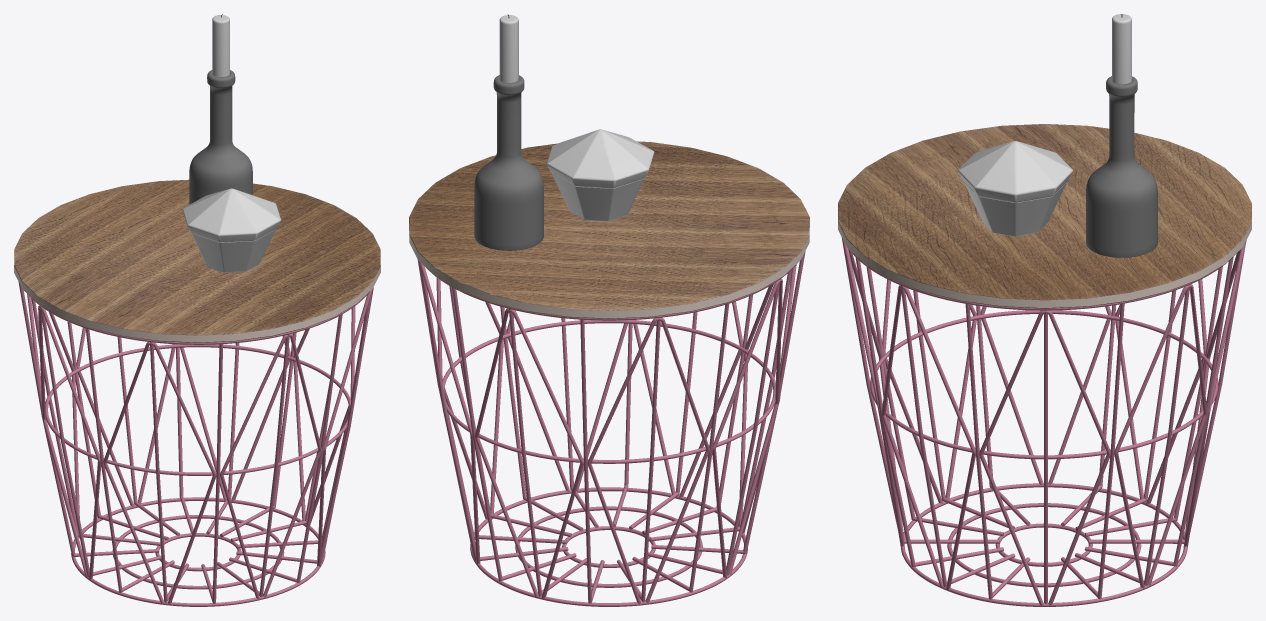
File: table_01.glb
The picture shows the model from 3 angles, left to right: view 1: azimuth 30°, elevation 25°; view 2: azimuth 150°, elevation 25°; view 3: azimuth 270°, elevation 25°; orthographic projection. The views are drawn at different scales.
Visible parts, largest first — view 1: Lid.2, Basket_wire_small_pink.1, Trinket.4, Trinket.3; view 2: Lid.2, Basket_wire_small_pink.1, Trinket.3, Trinket.4; view 3: Lid.2, Basket_wire_small_pink.1, Trinket.3, Trinket.4.
Boxes of the visible parts, bbox=[...] form: Lid.2: bbox=[14, 179, 380, 342]; Basket_wire_small_pink.1: bbox=[18, 281, 373, 606]; Trinket.4: bbox=[182, 188, 280, 272]; Trinket.3: bbox=[189, 14, 252, 204]; Lid.2: bbox=[409, 141, 809, 318]; Basket_wire_small_pink.1: bbox=[417, 251, 805, 606]; Trinket.3: bbox=[474, 14, 543, 250]; Trinket.4: bbox=[546, 129, 654, 221]; Lid.2: bbox=[838, 124, 1251, 308]; Basket_wire_small_pink.1: bbox=[841, 237, 1246, 606]; Trinket.3: bbox=[1086, 14, 1157, 257]; Trinket.4: bbox=[958, 141, 1072, 236].
Bounding box in the file's own units: 0.41 × 0.6142 × 0.4078.
7 materials, 1 textured.
